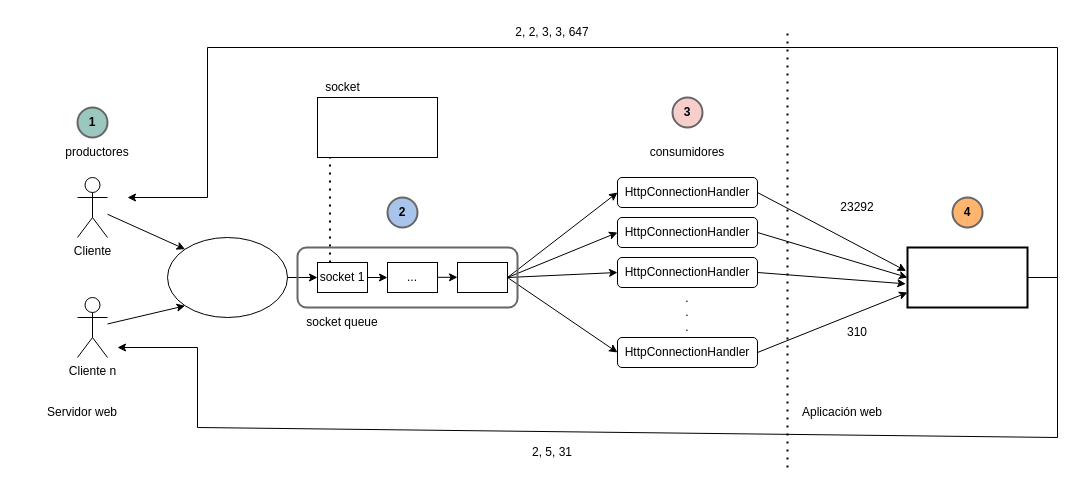
Image size: 1083x486. Some labels were removed from this diagram. The centre of each missing label's shape, as x and y in pixels:
"factWebApp" belongs at [967,277].
"HttpServer" belongs at [227,277].
"Re quest 1234 Response" belongs at [377,127].
"socket n" belongs at [482,277].
